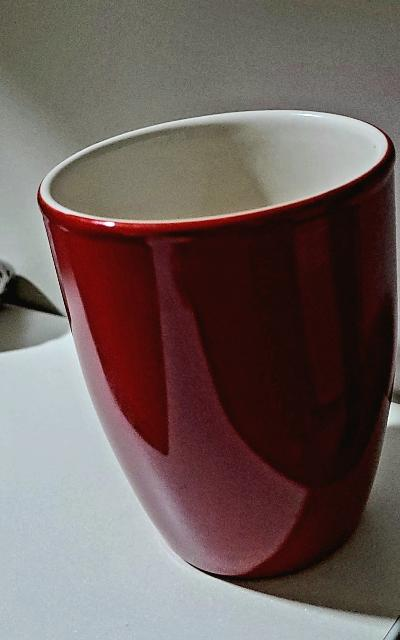Kagit: (35, 108, 395, 585)
